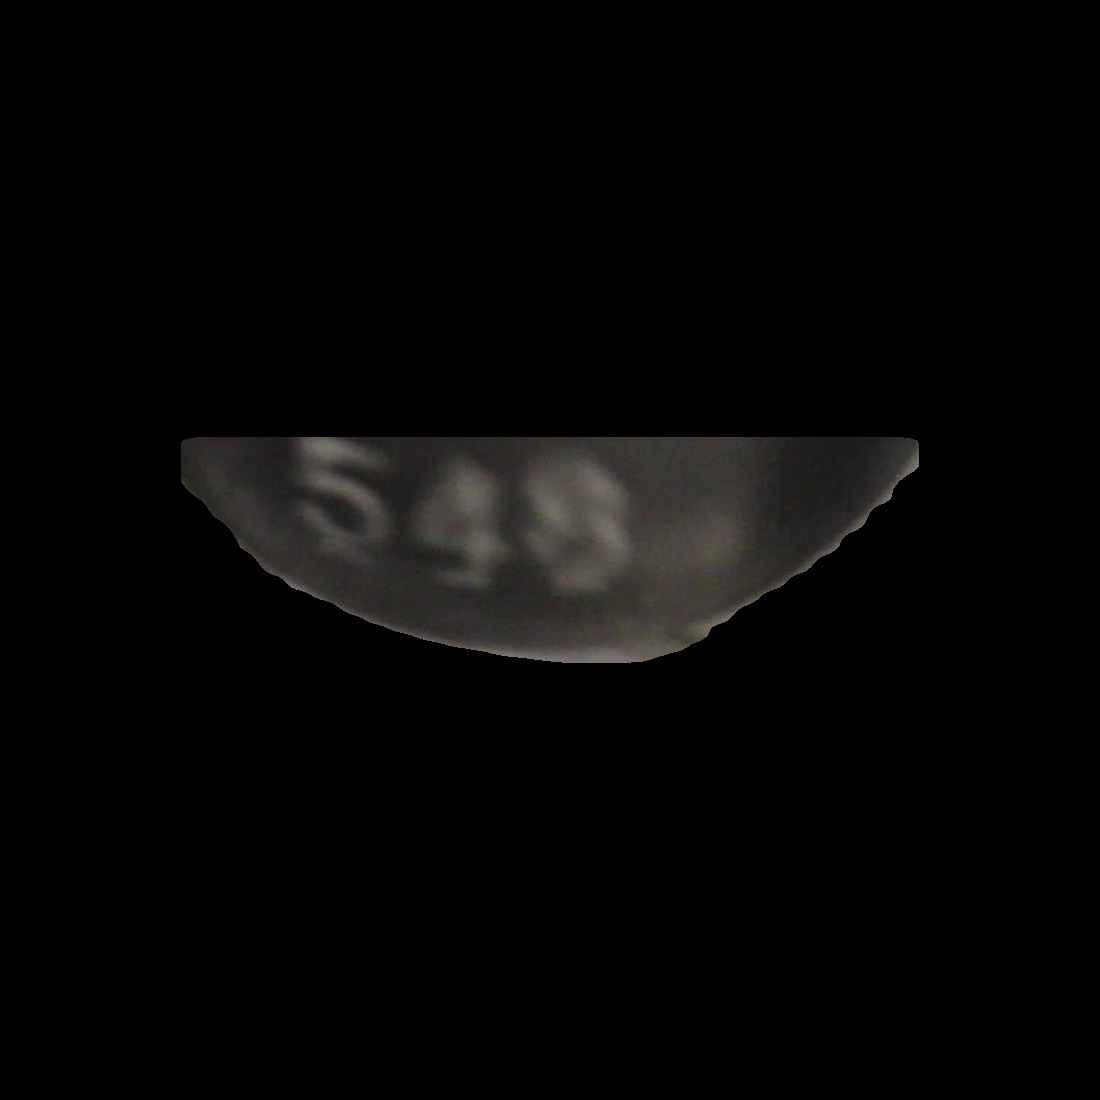digits: (277, 418, 654, 609)
